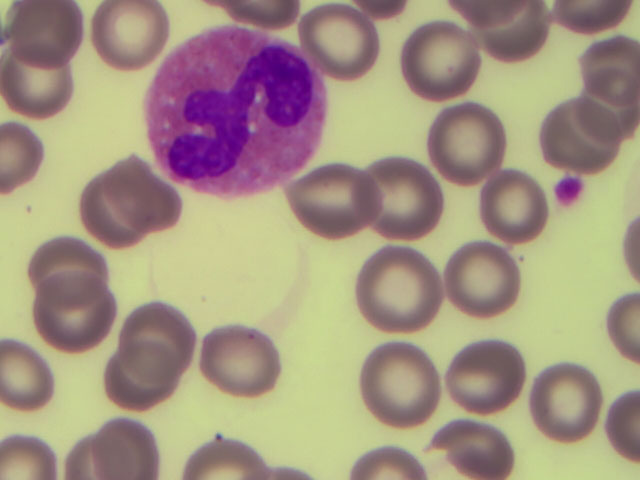Platelets: (552, 171, 589, 208)
RBC: (34, 278, 109, 353), (122, 291, 197, 366), (95, 345, 170, 420), (205, 322, 280, 397), (85, 405, 160, 480), (364, 345, 439, 420), (362, 250, 437, 325), (367, 157, 442, 232), (293, 163, 368, 238), (428, 105, 503, 180), (405, 25, 480, 100), (298, 7, 373, 82), (483, 171, 558, 246), (445, 238, 520, 313), (444, 339, 519, 414), (525, 361, 600, 436), (1, 337, 75, 412), (436, 415, 514, 480), (186, 415, 264, 480), (2, 415, 80, 480), (541, 102, 619, 167), (562, 72, 640, 137), (562, 26, 640, 91), (473, 1, 551, 65), (11, 59, 75, 124), (112, 158, 176, 222), (80, 182, 144, 246), (32, 231, 96, 295), (4, 1, 68, 64), (98, 1, 162, 64), (353, 440, 426, 480)
WBC: (146, 29, 324, 193)
